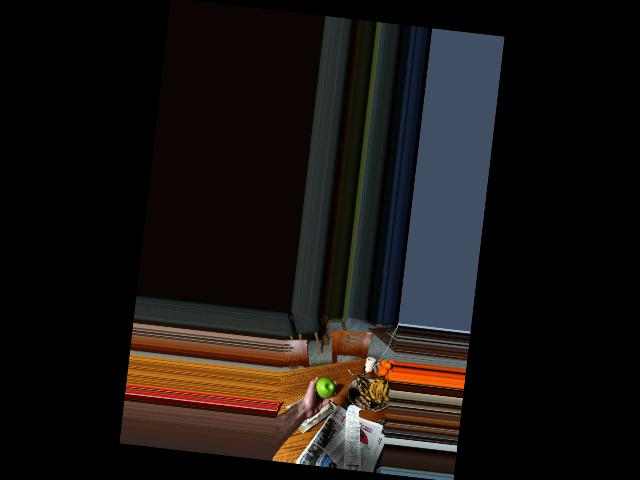apple: (312, 372, 339, 402)
